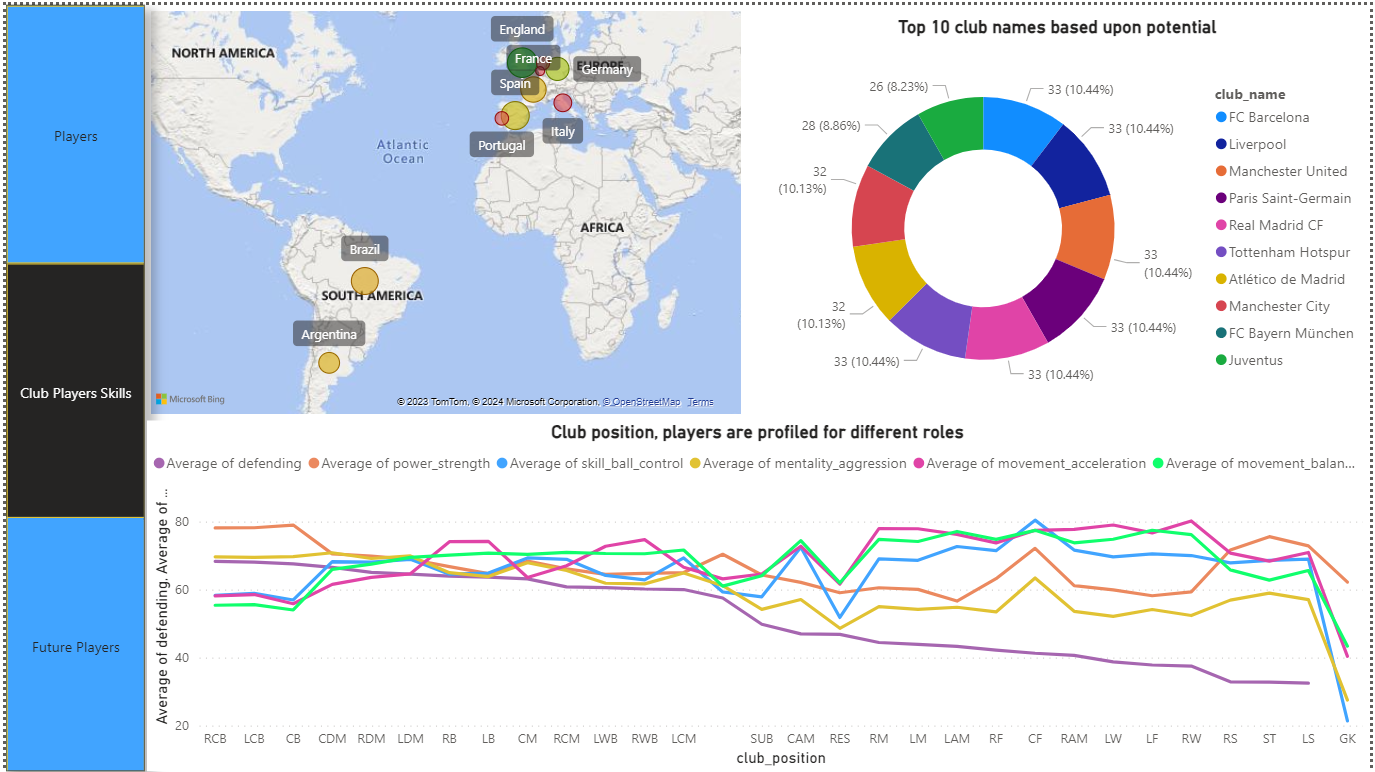

The page's visual inventory and layout, read from the dashboard file:
{"tool":"powerbi","page":{"name":"Club Players Skills","canvas":[1280,720],"ordinal":1},"visuals":[{"type":"map","fields":{"Category":["FIFA.nationality_name"],"Size":["Sum(FIFA.wage_eur)"]},"box":[130.3,0,563.7,389.5],"z":0},{"type":"pageNavigator","box":[0,0,130.1,719.5],"z":1000},{"type":"donutChart","title":"Top 10 club names based upon potential","fields":{"Y":["CountNonNull(FIFA.nationality_name)"],"Category":["FIFA.club_name"]},"box":[693.9,9.6,585.6,379.9],"z":2000},{"type":"lineChart","title":"Club position, players are profiled for different roles","fields":{"Category":["FIFA.club_position"],"Y":["Avg(FIFA.defending)","Avg(FIFA.power_strength)","Avg(FIFA.skill_ball_control)","Avg(FIFA.mentality_aggression)","Avg(FIFA.movement_acceleration)","Avg(FIFA.movement_balance)"]},"box":[133,389.5,1146.5,329.1],"z":3000}]}

Visuals, with their boxes on the page's 1280x720 design canvas (x1, y1, x2, y2). These are canvas units, not pixel positions in the 1375x772 screenshot, which may show the page scaled, cropped or inside an application window:
map - FIFA.nationality_name x Sum(FIFA.wage_eur): 130, 0, 694, 390
pageNavigator: 0, 0, 130, 720
"Top 10 club names based upon potential" donutChart: 694, 10, 1280, 390
"Club position, players are profiled for different roles" lineChart: 133, 390, 1280, 719
